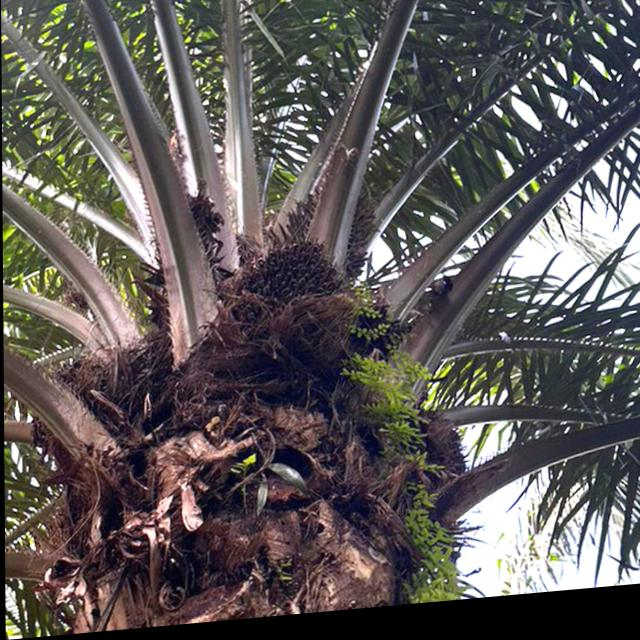almost: (230, 232, 352, 337)
